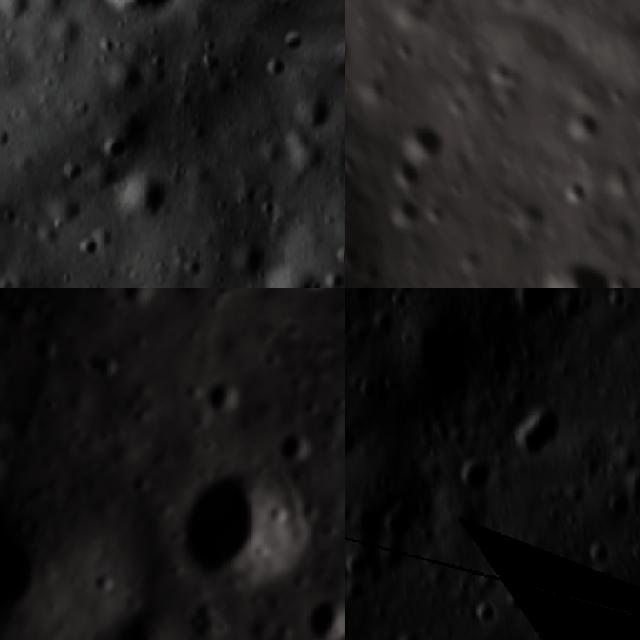crater: (151, 440, 332, 622), (0, 485, 93, 640), (104, 156, 185, 236), (239, 232, 344, 288), (83, 598, 196, 640), (68, 0, 192, 36), (191, 367, 257, 433), (392, 103, 453, 170), (524, 251, 628, 288), (17, 322, 78, 384), (288, 584, 345, 640), (554, 100, 611, 153), (518, 400, 556, 451), (386, 150, 426, 197), (384, 191, 426, 235), (485, 54, 525, 98), (0, 392, 24, 463), (558, 171, 596, 213), (52, 151, 91, 189), (345, 411, 373, 457), (345, 19, 364, 84), (517, 288, 568, 311), (74, 228, 108, 262), (461, 458, 489, 490), (0, 111, 20, 155), (134, 281, 162, 288)
